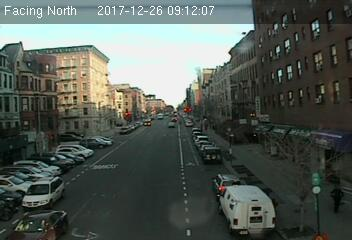car: (3, 211, 66, 240), (23, 175, 66, 211), (212, 173, 243, 197), (202, 146, 221, 163)
truck: (216, 181, 274, 235)
